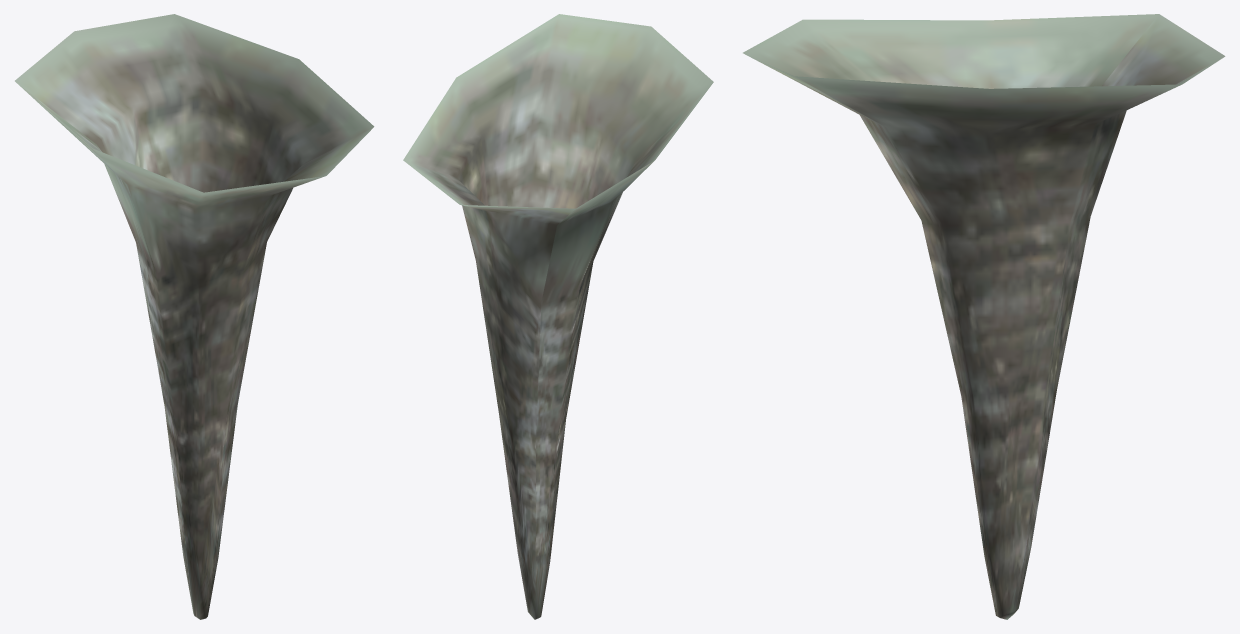
Rendered from TROLLHOLE02_PS-MAINSTALAG25.fbx.
3 views of the same model, side by side, from view 1: azimuth 30°, elevation 25°; view 2: azimuth 150°, elevation 25°; view 3: azimuth 270°, elevation 25° (orthographic). The views are drawn at different scales.
Parts seen in each view (by area): view 1: TROLLHOLE02_PS-MAINSTALAG25; view 2: TROLLHOLE02_PS-MAINSTALAG25; view 3: TROLLHOLE02_PS-MAINSTALAG25.
Part boxes in pixels (x1,y1,x2,y2): TROLLHOLE02_PS-MAINSTALAG25: (15, 14, 374, 619); TROLLHOLE02_PS-MAINSTALAG25: (403, 14, 713, 619); TROLLHOLE02_PS-MAINSTALAG25: (743, 14, 1225, 619).
Size of the model in its own units: 8753 by 21986 by 16544.
Materials: 1 (1 with a texture image).
